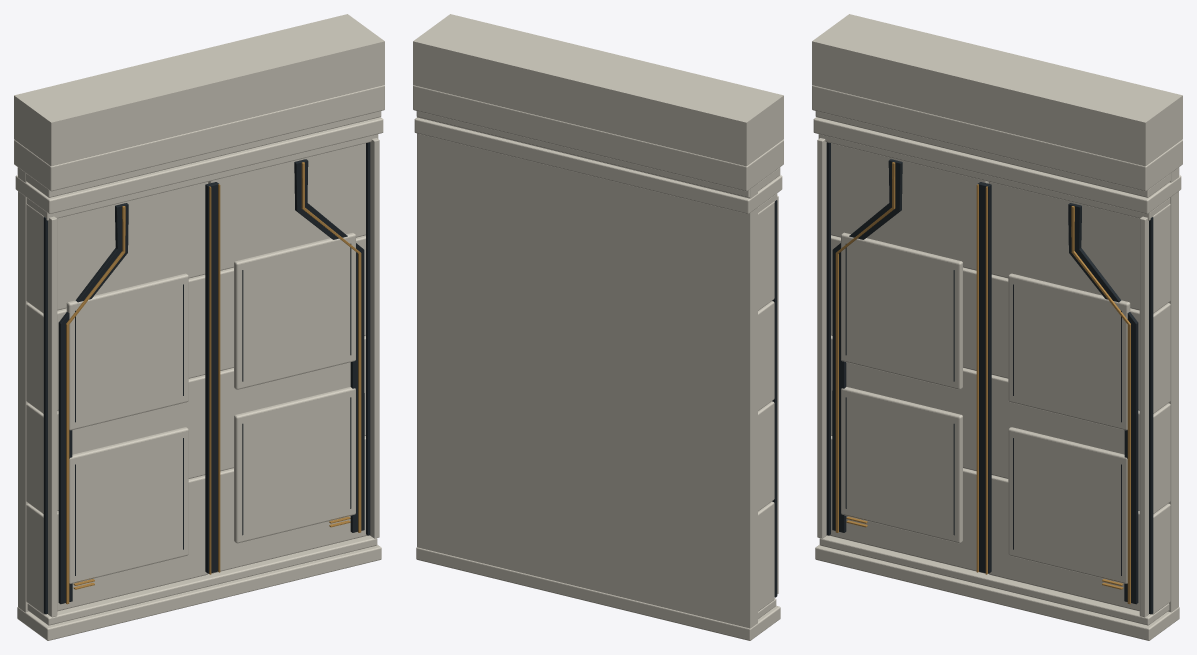
File: SM_Aurelion_KIT_Z03Wall44m.fbx
3 views of the same model, side by side, from view 1: azimuth 30°, elevation 25°; view 2: azimuth 150°, elevation 25°; view 3: azimuth 330°, elevation 25° (orthographic).
Parts seen in each view (by area): view 1: SM_Aurelion_KIT_Z03Wall44m; view 2: SM_Aurelion_KIT_Z03Wall44m; view 3: SM_Aurelion_KIT_Z03Wall44m.
Boxes of the visible parts, x1,y1,x2,y2 form: SM_Aurelion_KIT_Z03Wall44m: (14,14,384,640); SM_Aurelion_KIT_Z03Wall44m: (413,14,783,640); SM_Aurelion_KIT_Z03Wall44m: (812,14,1182,640).
Bounding box in the file's own units: 440 × 85 × 655.
